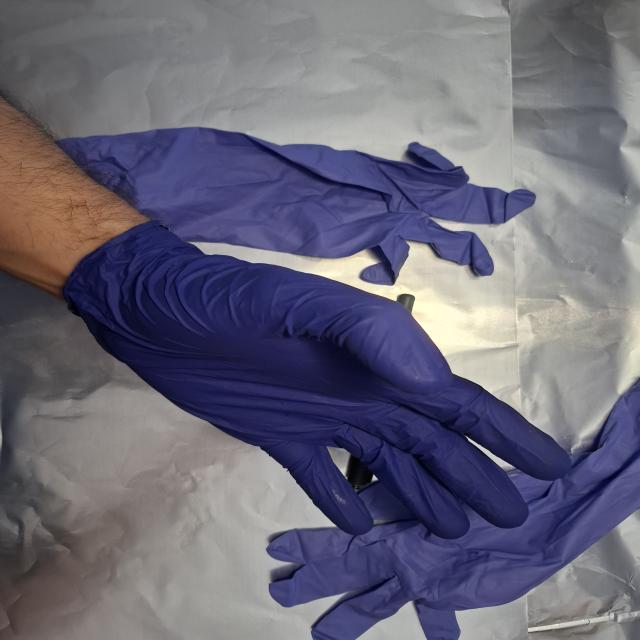glove_on: (59, 218, 580, 544)
